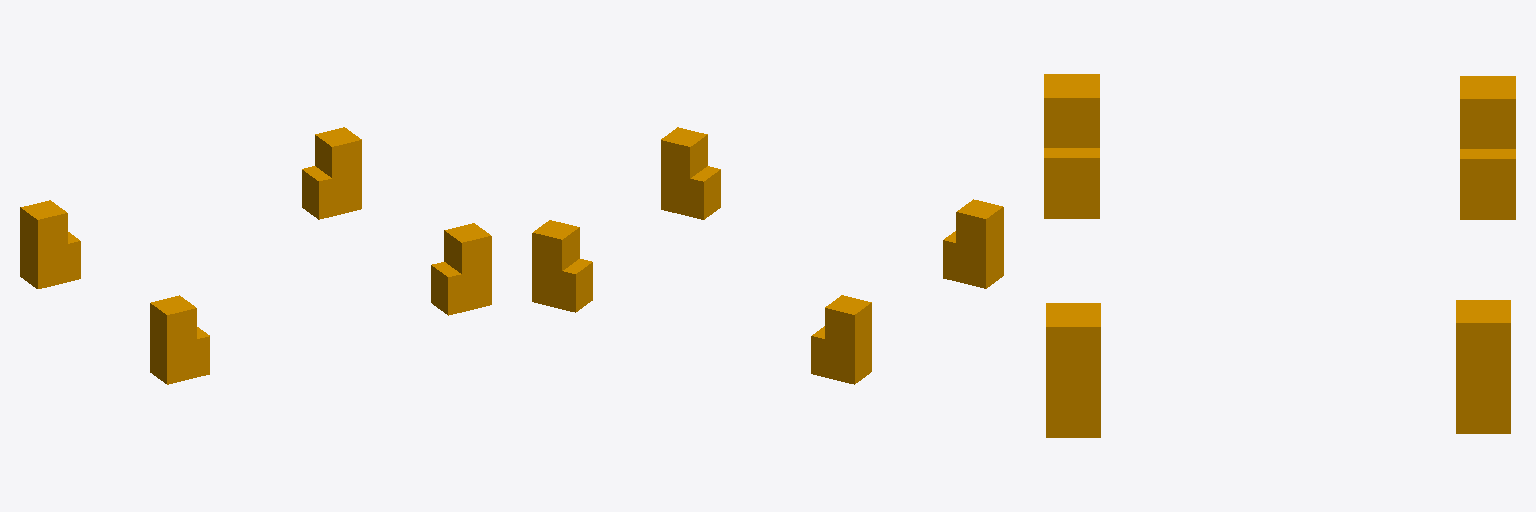
The robot description file, URDF, robot "pilar":
<?xml version="1.0"?>
<robot name="pilar">

  <link name="pilar_link">

    <!-- Pilar 1 -->
    <visual>
      <origin xyz="0.42805 -0.40929 -0.00772" rpy="0 0 0"/>
      <geometry>
        <mesh filename="meshes/pilar.stl" scale="0.001 0.001 0.001"/>
      </geometry>
    </visual>
    <!--
    <collision>
      <origin xyz="0.42805 -0.40929 -0.00772" rpy="0 0 0"/>
      <geometry>
        <mesh filename="meshes/pilar.stl" scale="0.001 0.001 0.001"/>
      </geometry>
    </collision>
    -->

    <!-- Pilar 2 -->
    <visual>
      <origin xyz="0.43081 0.27010 -0.00895" rpy="0 0 0"/>
      <geometry>
        <mesh filename="meshes/pilar.stl" scale="0.001 0.001 0.001"/>
      </geometry>
    </visual>
    <!--
    <collision>
      <origin xyz="0.43081 0.27010 -0.00895" rpy="0 0 0"/>
      <geometry>
        <mesh filename="meshes/pilar.stl" scale="0.001 0.001 0.001"/>
      </geometry>
    </collision>
    -->

    <!-- Pilar 3 -->
    <visual>
      <origin xyz="1.22504 -0.49757 -0.00711" rpy="0 0 3.1416"/>
      <geometry>
        <mesh filename="meshes/pilar.stl" scale="0.001 0.001 0.001"/>
      </geometry>
    </visual>
    <!--
    <collision>
      <origin xyz="1.22504 -0.49757 -0.00711" rpy="0 0 3.1416"/>
      <geometry>
        <mesh filename="meshes/pilar.stl" scale="0.001 0.001 0.001"/>
      </geometry>
    </collision>
    -->

    <!-- Pilar 4 -->
    <visual>
      <origin xyz="1.22247 0.17285 -0.00161" rpy="0 0 3.1416"/>
      <geometry>
        <mesh filename="meshes/pilar.stl" scale="0.001 0.001 0.001"/>
      </geometry>
    </visual>
    <!--
    <collision>
      <origin xyz="1.22247 0.17285 -0.00161" rpy="0 0 3.1416"/>
      <geometry>
        <mesh filename="meshes/pilar.stl" scale="0.001 0.001 0.001"/>
      </geometry>
    </collision>
    -->

    <!-- Inertial block  -->
    <inertial>
      <origin xyz="0 0 0" rpy="0 0 0"/>
      <mass value="2.0"/>
      <inertia ixx="0.01" ixy="0" ixz="0" iyy="0.01" iyz="0" izz="0.01"/>
    </inertial>

  </link>

</robot>

--- What the picture shows (computed from the rendered views, not written in the file) ---
3 views of the same robot in one strip: view 1: azimuth 30°, elevation 25°; view 2: azimuth 150°, elevation 25°; view 3: azimuth 270°, elevation 25° (orthographic).
Model pilar with 1 links and 0 joints (none), rooted at pilar_link, posed all joints at 0.
Visible links, largest first — view 1: pilar_link; view 2: pilar_link; view 3: pilar_link.
Boxes of the visible links, bbox=[...] form: pilar_link: bbox=[20, 127, 491, 384]; pilar_link: bbox=[532, 127, 1003, 384]; pilar_link: bbox=[1044, 74, 1515, 437].
Size in the robot's own frame: 0.977 by 0.7694 by 0.2073 metres.
4 mesh visuals loaded from 1 distinct referenced files (1 binary STL).
